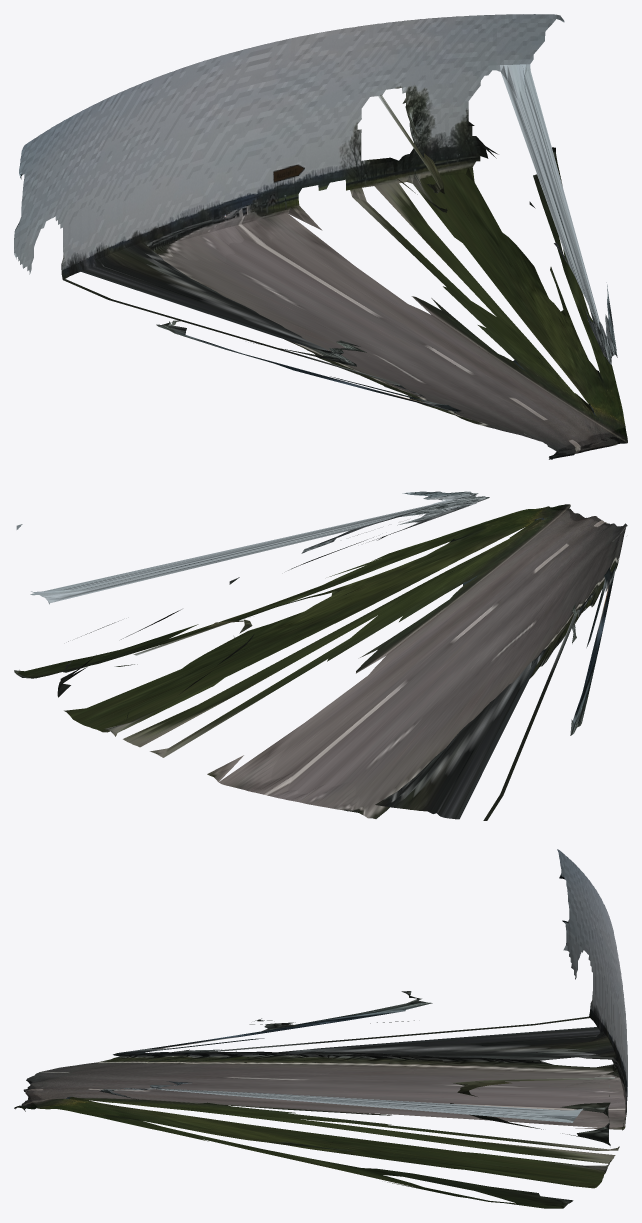
3 views of the same model, one above another, from view 1: azimuth 30°, elevation 25°; view 2: azimuth 150°, elevation 25°; view 3: azimuth 270°, elevation 25° (orthographic). The views are drawn at different scales.
Parts seen in each view (by area): view 1: defaultobject; view 2: defaultobject; view 3: defaultobject.
Part boxes in pixels (bbox=[...]): defaultobject: bbox=[14, 14, 627, 459]; defaultobject: bbox=[14, 491, 627, 820]; defaultobject: bbox=[14, 849, 627, 1208].
Bounding box in the file's own units: 40.69 × 13.17 × 44.82.
1 material, 1 textured.
